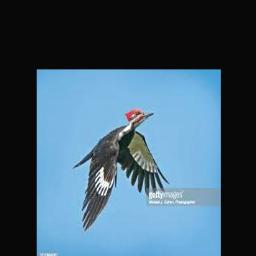Woodpecker: (73, 109, 170, 231)
